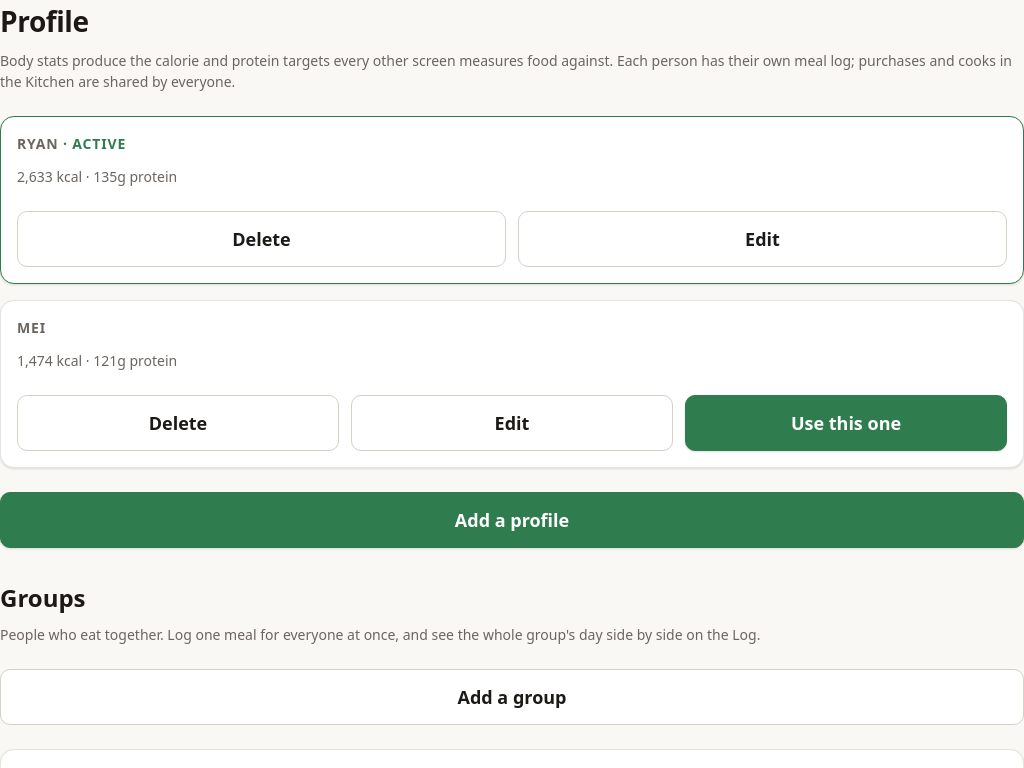
ProfileScreen editing and adding › abandons the form without reporting a change
Click the button "Add a profile" at (512, 520), box [0,492,1023,548]
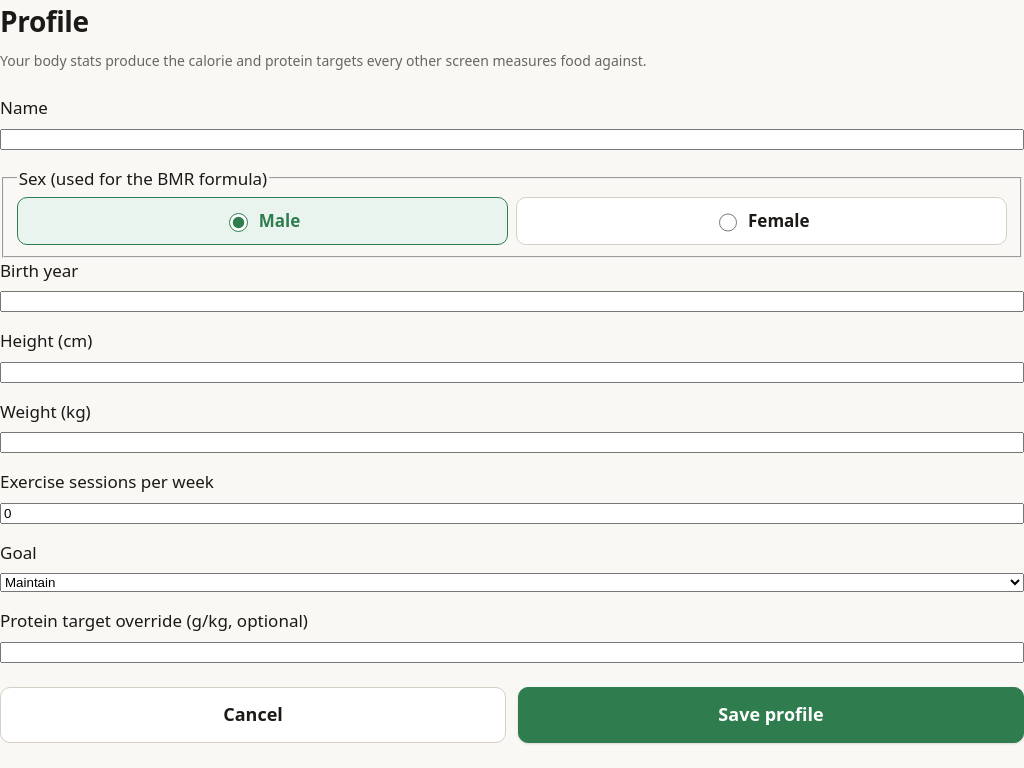
Click the button "Cancel" at (253, 715), box [0,687,506,743]
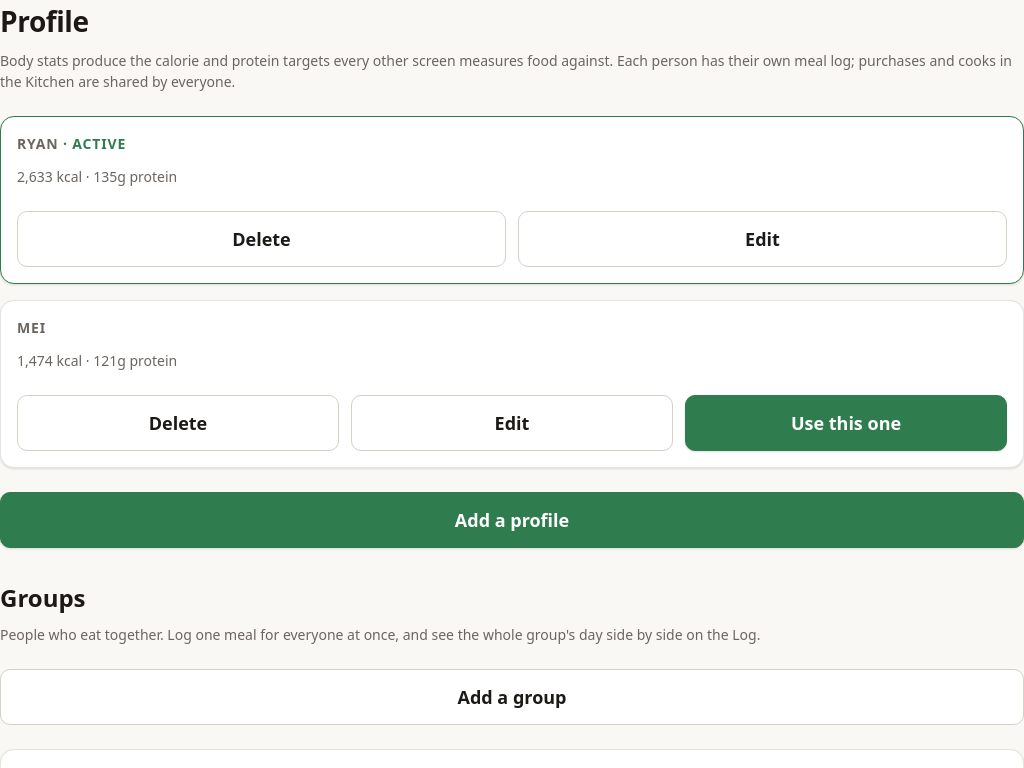
Expected: the element with test id "profile-p1" is shown, [0,116,1023,284]
